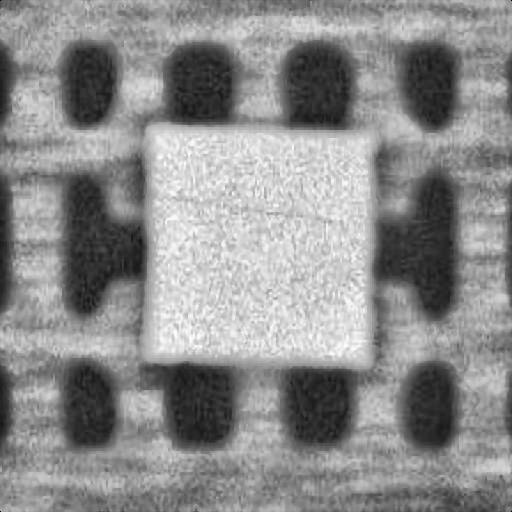DIE_CRACK: (218, 128, 490, 145)
